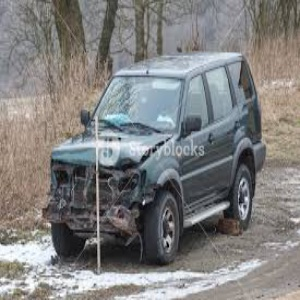bumper: (50, 191, 139, 248)
